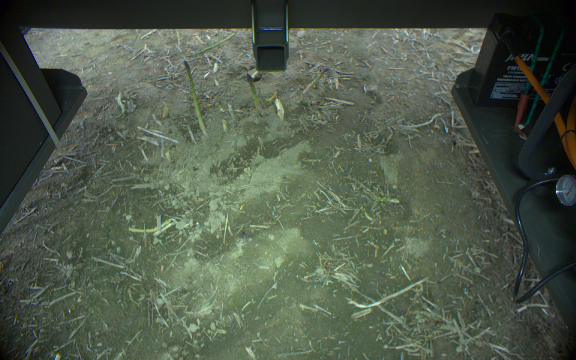aspa: (181, 60, 209, 139), (191, 32, 237, 57), (300, 66, 328, 94), (246, 73, 263, 116)
